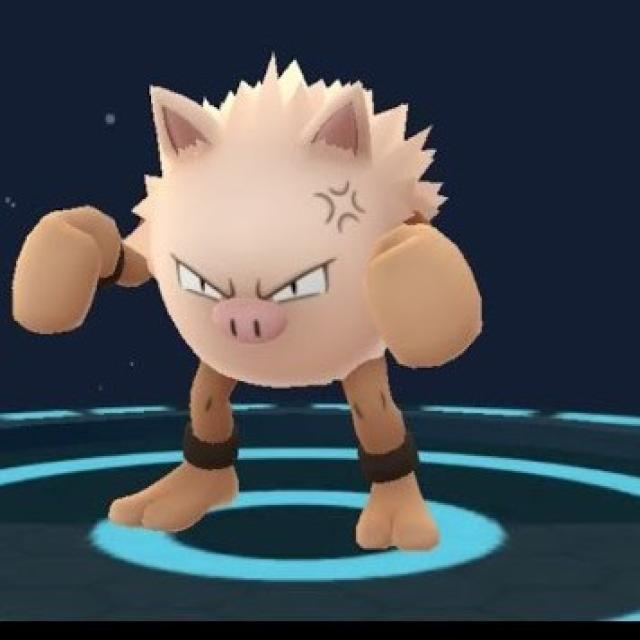Primeape: (80, 70, 451, 543)
